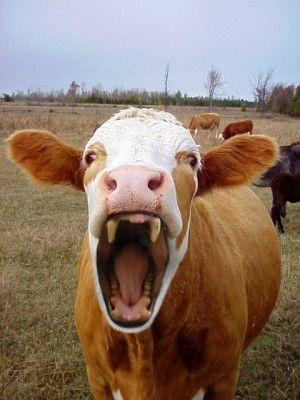cow: (22, 72, 297, 391)
